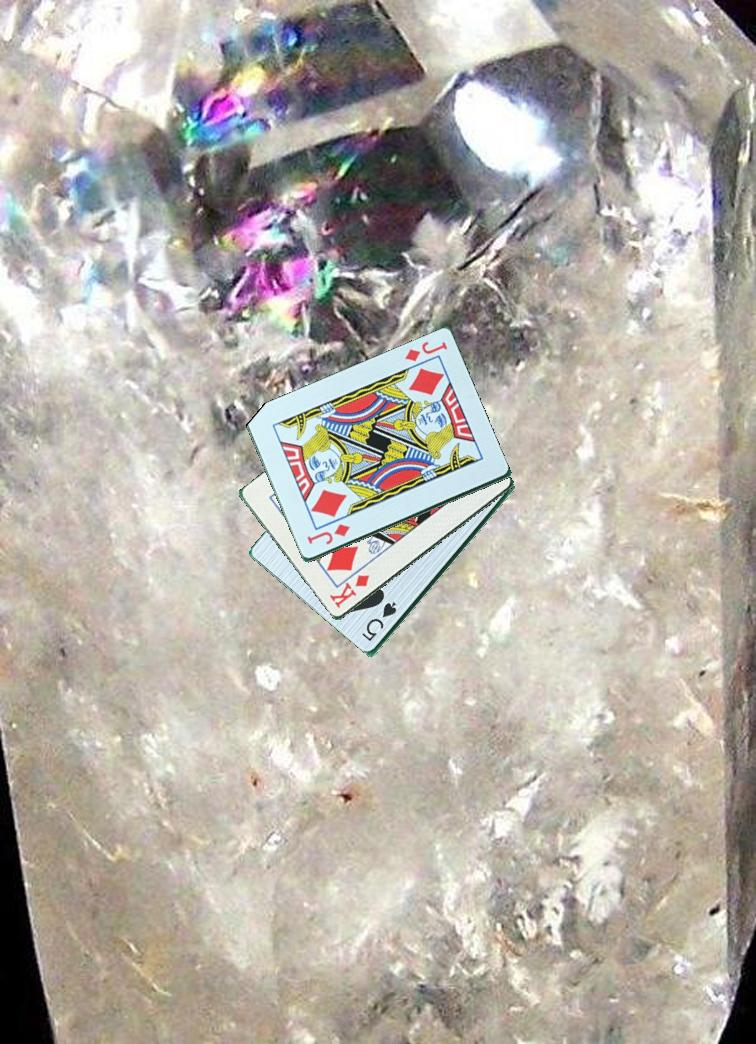5s: (359, 599, 400, 649)
jd: (304, 521, 353, 548), (401, 338, 450, 365)
kd: (327, 571, 372, 612)
